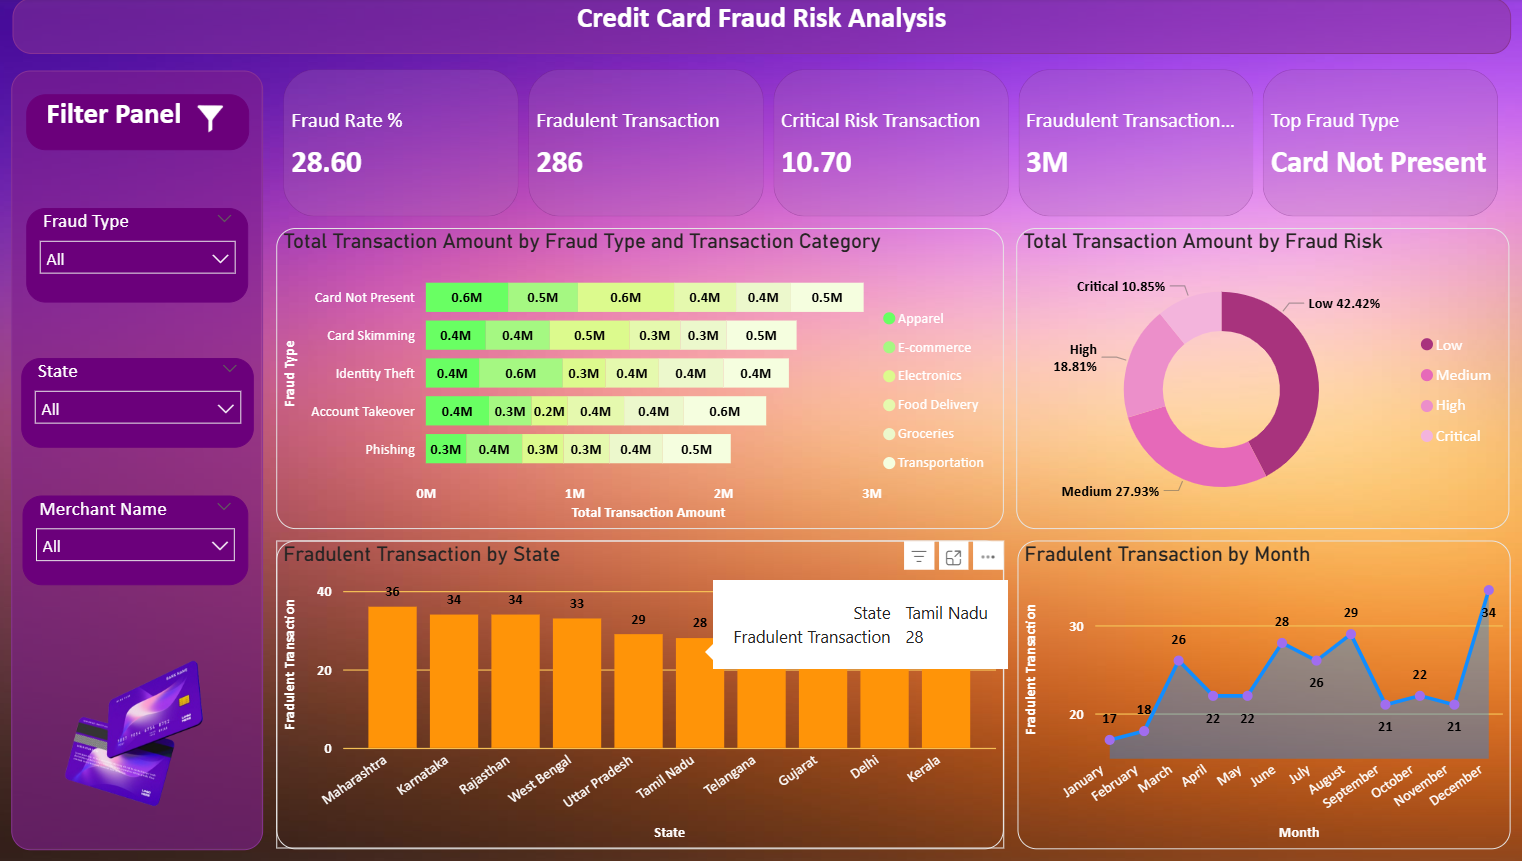

Layout of this report page (visuals, bound fields, positions):
{"tool":"powerbi","page":{"name":"Page 1","canvas":[1280,720],"ordinal":0},"visuals":[{"type":"textbox","box":[22.5,0,1242.5,46.2],"z":0},{"type":"shape","box":[21.2,60,208.8,646.2],"z":1000},{"type":"textbox","box":[33.8,80,185,46.2],"z":2000},{"type":"image","box":[156.2,78.8,61.2,43.8],"z":3000},{"type":"barChart","fields":{"Y":["Credit Card Fraud Risk Analysis.Total Transaction Amount"],"Category":["Credit Card Fraud Risk Analysis.Fraud Type"],"Series":["Credit Card Fraud Risk Analysis.Transaction Category"]},"box":[241.8,191,603,249.3],"z":4000},{"type":"donutChart","fields":{"Y":["Credit Card Fraud Risk Analysis.Total Transaction Amount"],"Category":["Credit Card Fraud Risk Analysis.Fraud Risk"]},"box":[855.2,191,409,249.3],"z":5000},{"type":"columnChart","fields":{"Category":["Credit Card Fraud Risk Analysis.State"],"Y":["Credit Card Fraud Risk Analysis.Fradulent Transaction"]},"box":[241.4,450,602.9,255.7],"z":6000},{"type":"lineChart","fields":{"Y":["Credit Card Fraud Risk Analysis.Fradulent Transaction"],"Category":["Credit Card Fraud Risk Analysis.Transaction Date.Variation.Date Hierarchy.Month"]},"box":[855.7,450,408.6,255.7],"z":7000},{"type":"slicer","fields":{"Values":["Credit Card Fraud Risk Analysis.Fraud Type"]},"box":[34.3,174.3,184.3,78.6],"z":8000},{"type":"slicer","fields":{"Values":["Credit Card Fraud Risk Analysis.State"]},"box":[30,298.6,192.9,74.3],"z":9000},{"type":"slicer","fields":{"Values":["Credit Card Fraud Risk Analysis.Merchant Name"]},"box":[31.4,412.9,187.1,74.3],"z":10000},{"type":"image","box":[0,530,191.4,162.9],"z":11000},{"type":"cardVisual","fields":{"Data":["Credit Card Fraud Risk Analysis.Fraud Rate %","Credit Card Fraud Risk Analysis.Fradulent Transaction","Credit Card Fraud Risk Analysis.Critical Risk Transaction","Credit Card Fraud Risk Analysis.Fraudulent Transaction Amount","Credit Card Fraud Risk Analysis.Top Fraud Type"]},"box":[242.9,58.6,1021.4,127.1],"z":12000}]}

Visuals, with their boxes in screenshot pixels (x1, y1, x2, y2), scaled from the page's 1280x720 canvas onto the 1522x861 screenshot:
textbox: <box>27,0,1504,55</box>
shape: <box>25,72,273,844</box>
textbox: <box>40,96,260,151</box>
image: <box>186,94,259,147</box>
barChart - Credit Card Fraud Risk Analysis.Total Transaction Amount x Credit Card Fraud Risk Analysis.Fraud Type: <box>288,228,1005,527</box>
donutChart - Credit Card Fraud Risk Analysis.Total Transaction Amount x Credit Card Fraud Risk Analysis.Fraud Risk: <box>1017,228,1503,527</box>
columnChart - Credit Card Fraud Risk Analysis.State x Credit Card Fraud Risk Analysis.Fradulent Transaction: <box>287,538,1004,844</box>
lineChart - Credit Card Fraud Risk Analysis.Fradulent Transaction x Credit Card Fraud Risk Analysis.Transaction Date.Variation.Date Hierarchy.Month: <box>1017,538,1503,844</box>
slicer - Credit Card Fraud Risk Analysis.Fraud Type: <box>41,208,260,302</box>
slicer - Credit Card Fraud Risk Analysis.State: <box>36,357,265,446</box>
slicer - Credit Card Fraud Risk Analysis.Merchant Name: <box>37,494,260,583</box>
image: <box>0,634,228,829</box>
cardVisual - Credit Card Fraud Risk Analysis.Fraud Rate % x Credit Card Fraud Risk Analysis.Fradulent Transaction: <box>289,70,1503,222</box>
